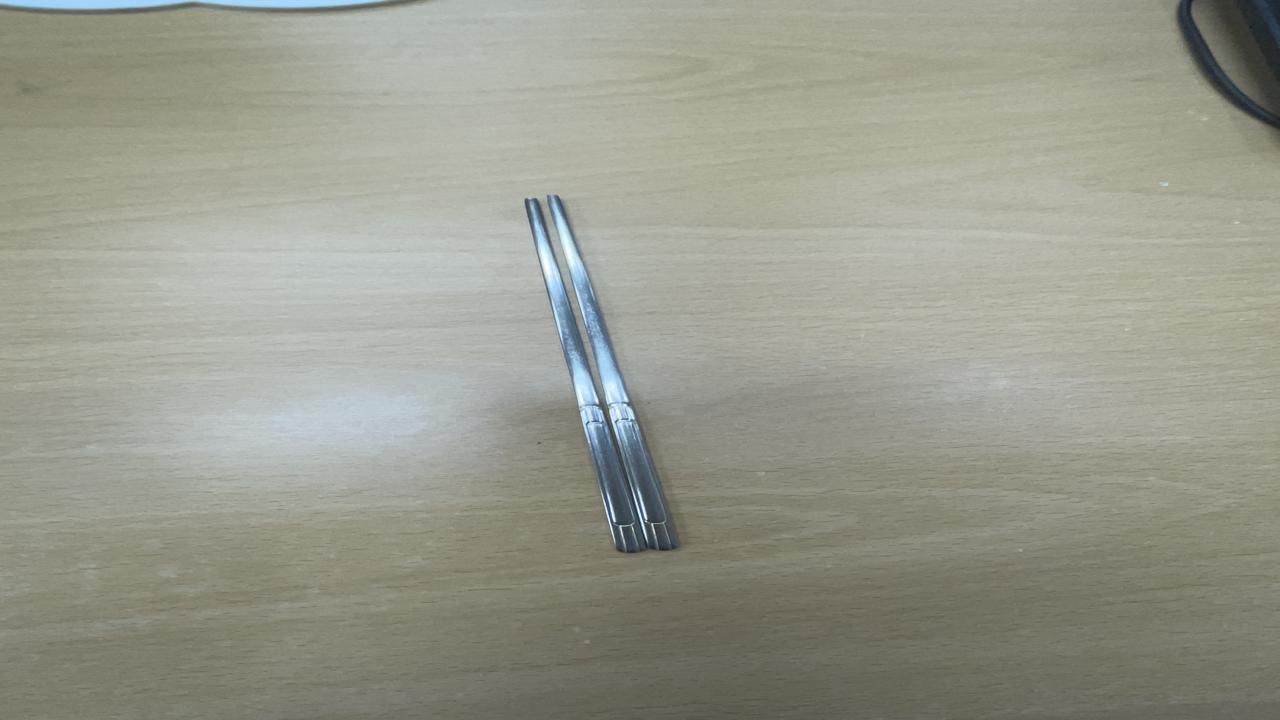chopstick: (517, 195, 678, 558)
